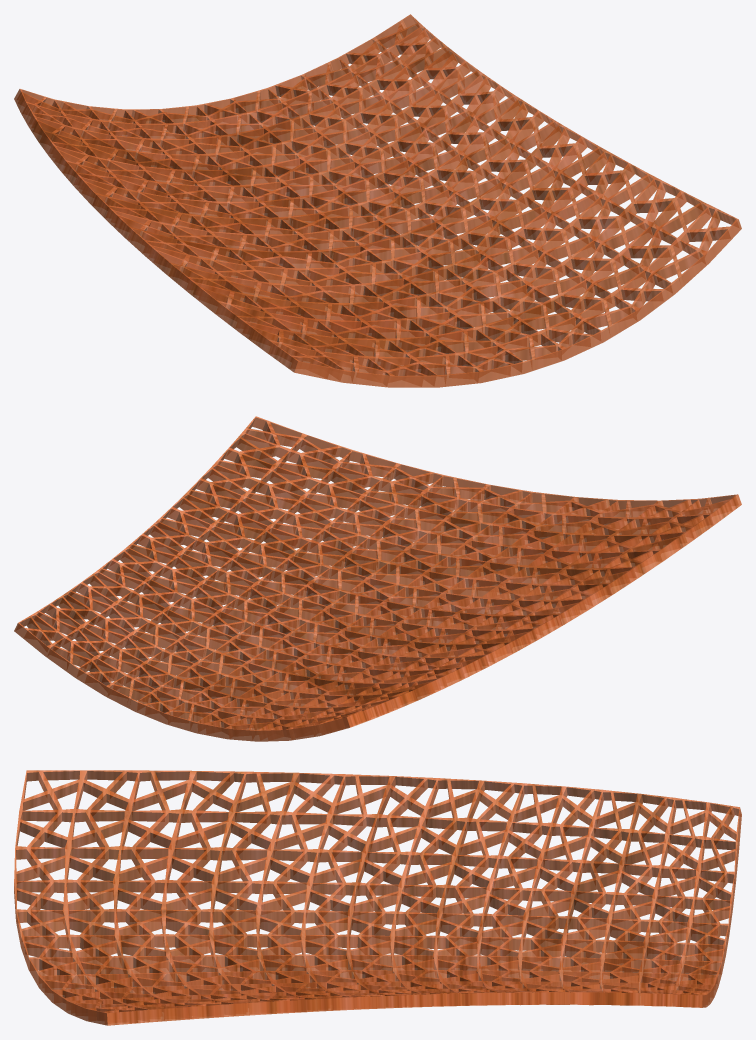
File: samplescreen.glb
3 views of the same model, one above another, from view 1: azimuth 30°, elevation 25°; view 2: azimuth 150°, elevation 25°; view 3: azimuth 270°, elevation 25° (orthographic). The views are drawn at different scales.
Parts seen in each view (by area): view 1: [0,0,0]; view 2: [0,0,0]; view 3: [0,0,0].
Boxes of the visible parts, left/top/right/bottom form: [0,0,0]: left=14, top=14, right=741, bottom=387; [0,0,0]: left=14, top=416, right=741, bottom=741; [0,0,0]: left=14, top=770, right=741, bottom=1025.
Bounding box in the file's own units: 4.59 × 0.5887 × 5.82.
1 material, 1 textured.
